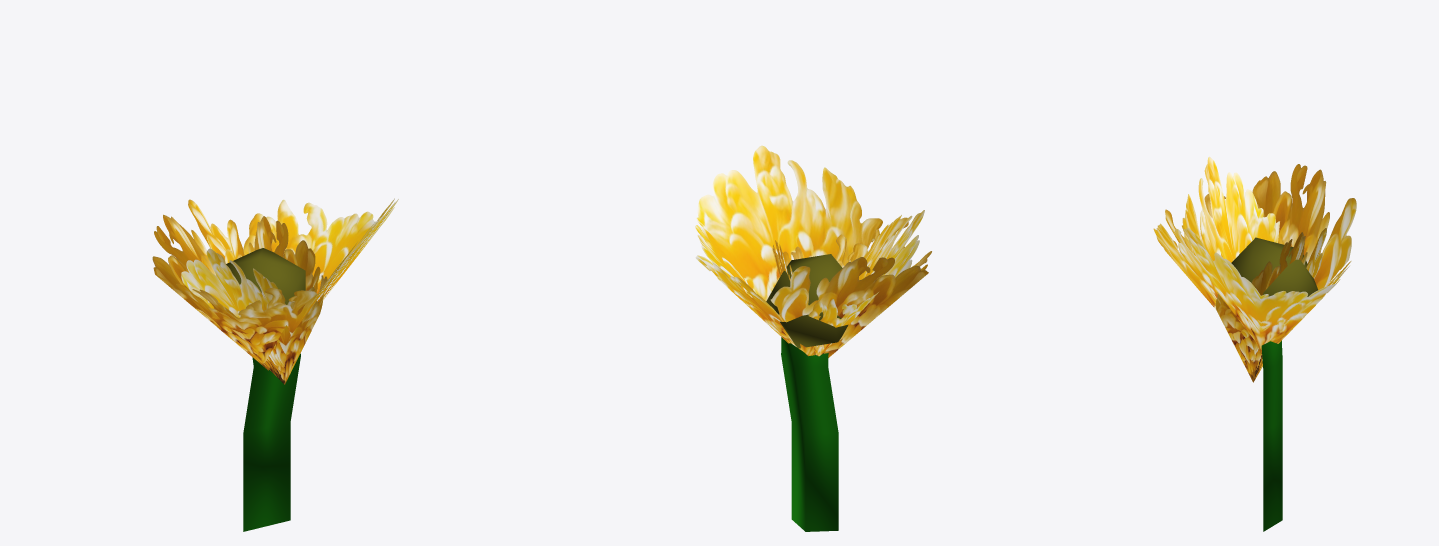
Rendered from YellowChrysanthemum.fbx.
3 views of the same model, side by side, from view 1: azimuth 30°, elevation 25°; view 2: azimuth 150°, elevation 25°; view 3: azimuth 270°, elevation 25° (orthographic).
Parts seen in each view (by area): view 1: YellowChrysanthemum.001, YellowChrysanthemum, Cylinder.002, Icosphere.001; view 2: YellowChrysanthemum.001, Cylinder.002, YellowChrysanthemum, Icosphere.001; view 3: YellowChrysanthemum.001, YellowChrysanthemum, Cylinder.002, Icosphere.001.
Boxes of the visible parts, <box> form: YellowChrysanthemum.001: <box>152,198,398,370</box>; YellowChrysanthemum: <box>181,216,327,384</box>; Cylinder.002: <box>243,353,300,531</box>; Icosphere.001: <box>226,248,305,304</box>; YellowChrysanthemum.001: <box>695,145,931,357</box>; Cylinder.002: <box>781,337,838,531</box>; YellowChrysanthemum: <box>772,210,924,356</box>; Icosphere.001: <box>766,254,848,348</box>; YellowChrysanthemum.001: <box>1153,164,1356,353</box>; YellowChrysanthemum: <box>1182,156,1326,382</box>; Cylinder.002: <box>1261,340,1282,531</box>; Icosphere.001: <box>1231,237,1317,296</box>.
Size of the model in its own units: 9.38 by 10.49 by 7.4.
